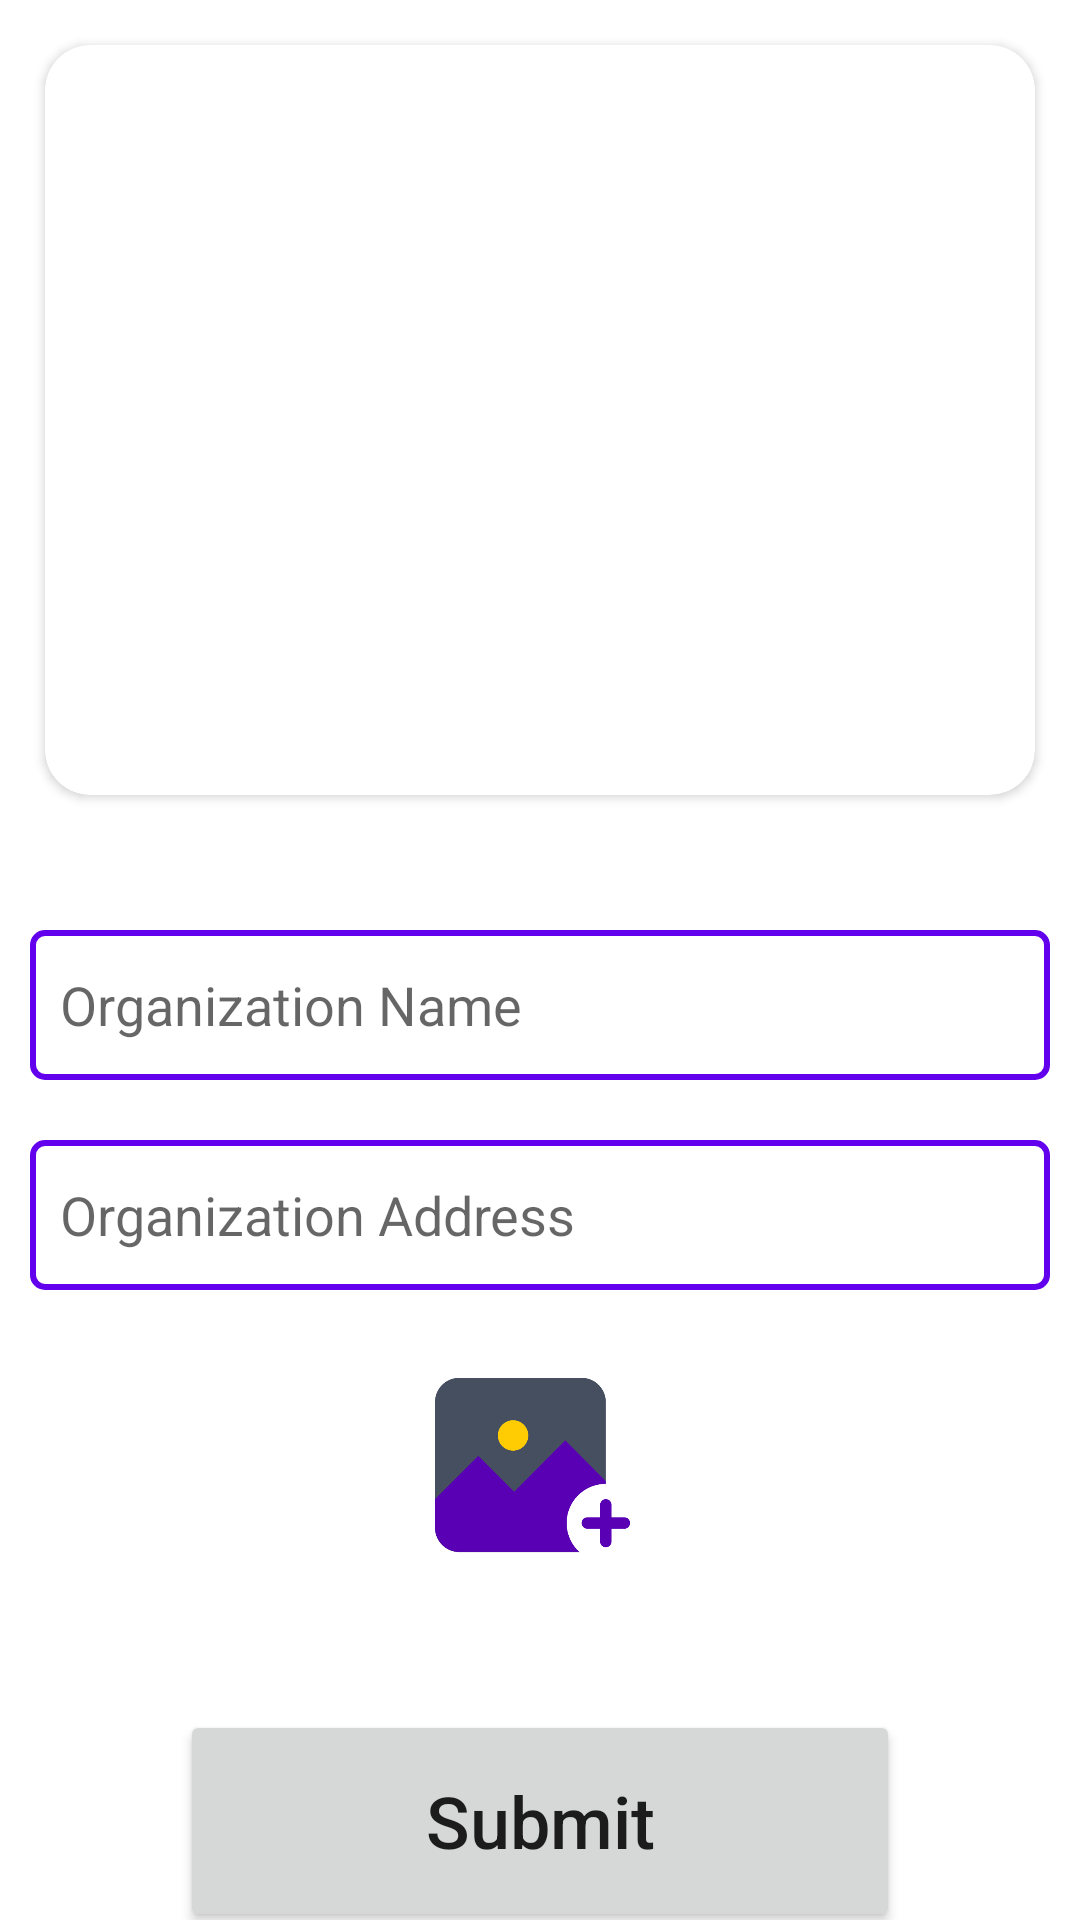

Where icons sit on this 1080x1920 app screen, as box(x1, y1, x2, y2):
addimage: box(435, 1378, 630, 1552)
